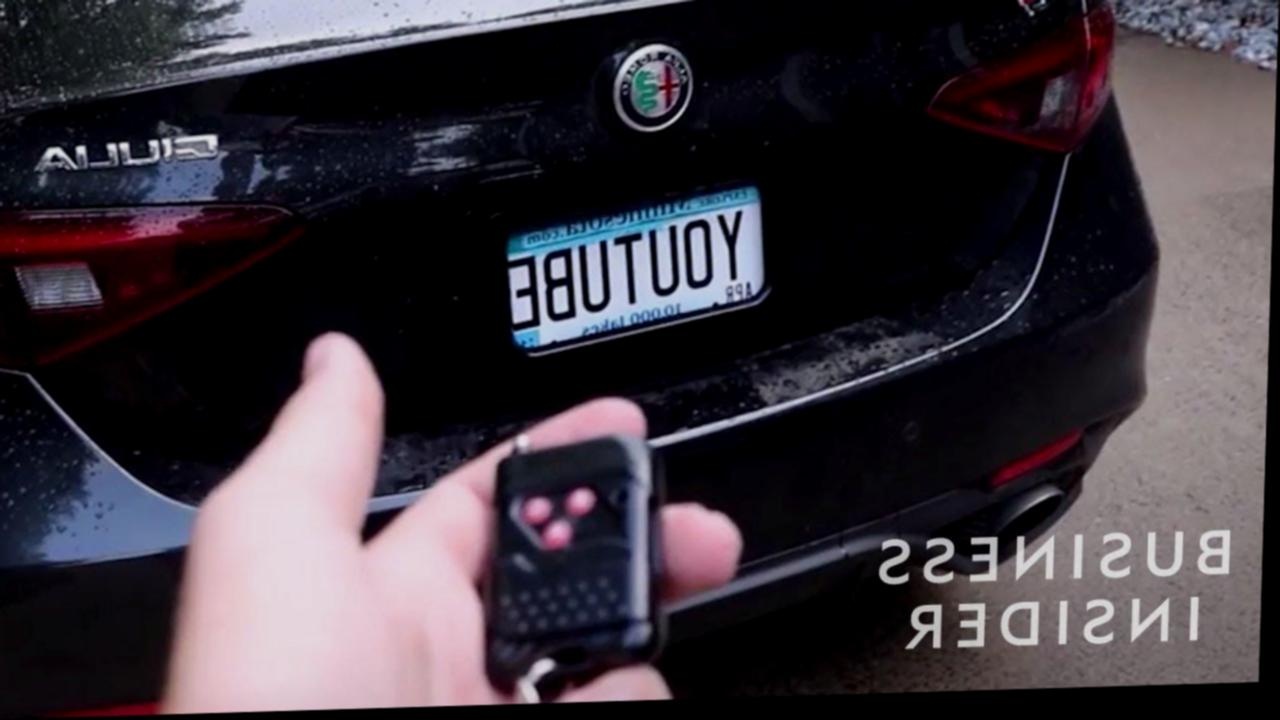License_Plate: (505, 179, 764, 356)
